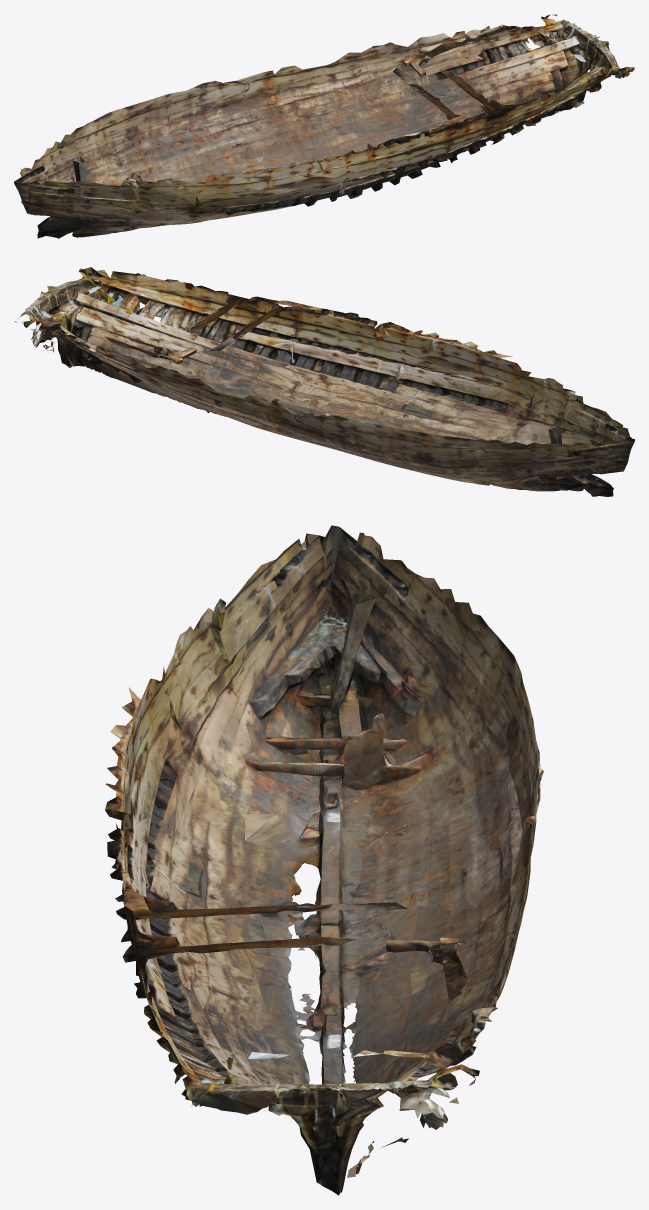
Rendered from shipwreck.dae.
The picture shows the model from 3 angles, top to bottom: view 1: azimuth 30°, elevation 25°; view 2: azimuth 150°, elevation 25°; view 3: azimuth 270°, elevation 25°; orthographic projection. The views are drawn at different scales.
Visible parts, largest first — view 1: model; view 2: model; view 3: model.
Boxes of the visible parts, left/top/right/bottom form: model: left=14, top=14, right=634, bottom=238; model: left=14, top=267, right=634, bottom=496; model: left=105, top=525, right=543, bottom=1195.
Bounding box in the file's own units: 274 × 88.87 × 36.03.
1 material, 1 textured.
